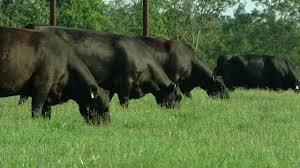cow: (30, 28, 184, 108), (0, 27, 110, 126), (130, 35, 231, 100), (213, 53, 300, 92)
